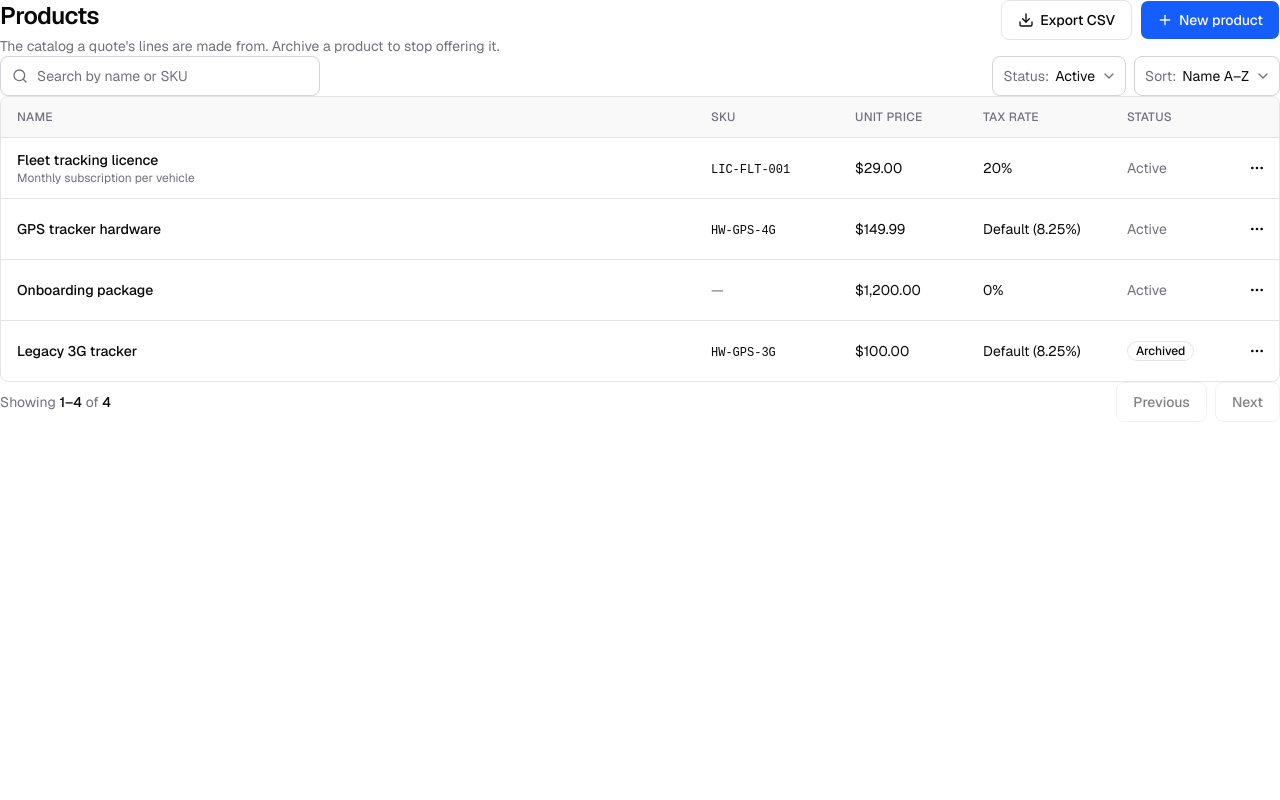
Test case: ProductsPage › adds a product that follows the default tax rate as taxRate null
The width and height of the screenshot is (1280, 800).
Click the button "New product" at point(1210, 20), box [1140,0,1279,40]
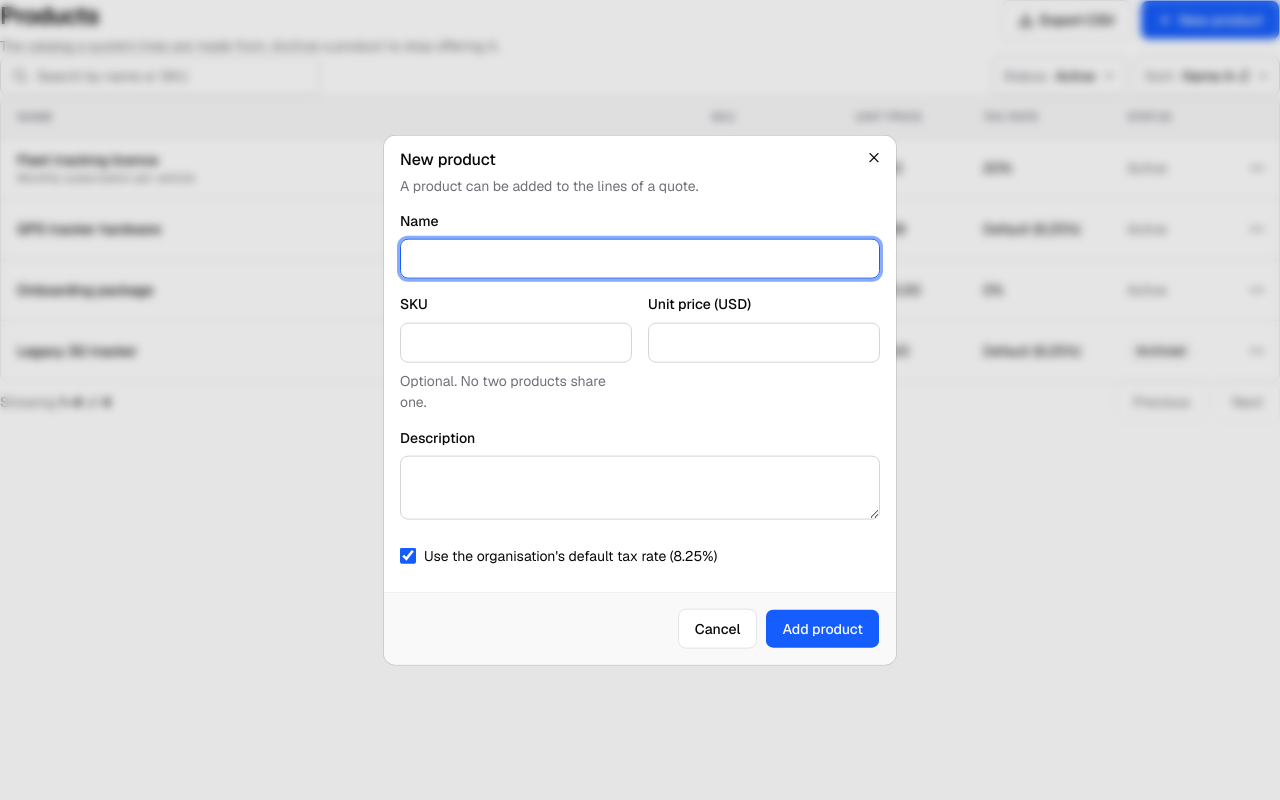
Expected: the checkbox labelled "Use the organisation's default tax rate (8.25%)" is checked, [400,547,416,563]
Type "  GPS tracker hardware " into the field labelled "Name" at point(640, 259), box [400,239,880,279]
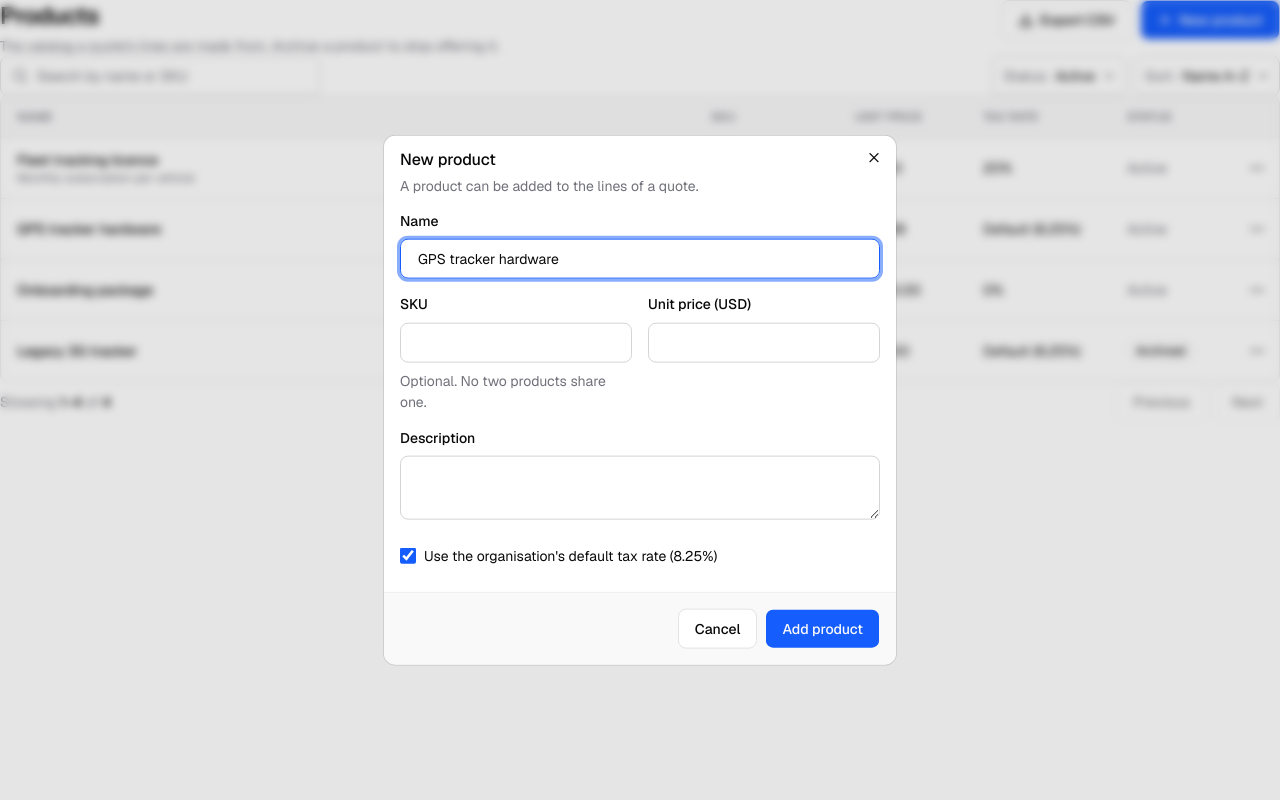
Type "HW-GPS-4G" into the field labelled "SKU" at point(516, 342), box [400,322,632,362]
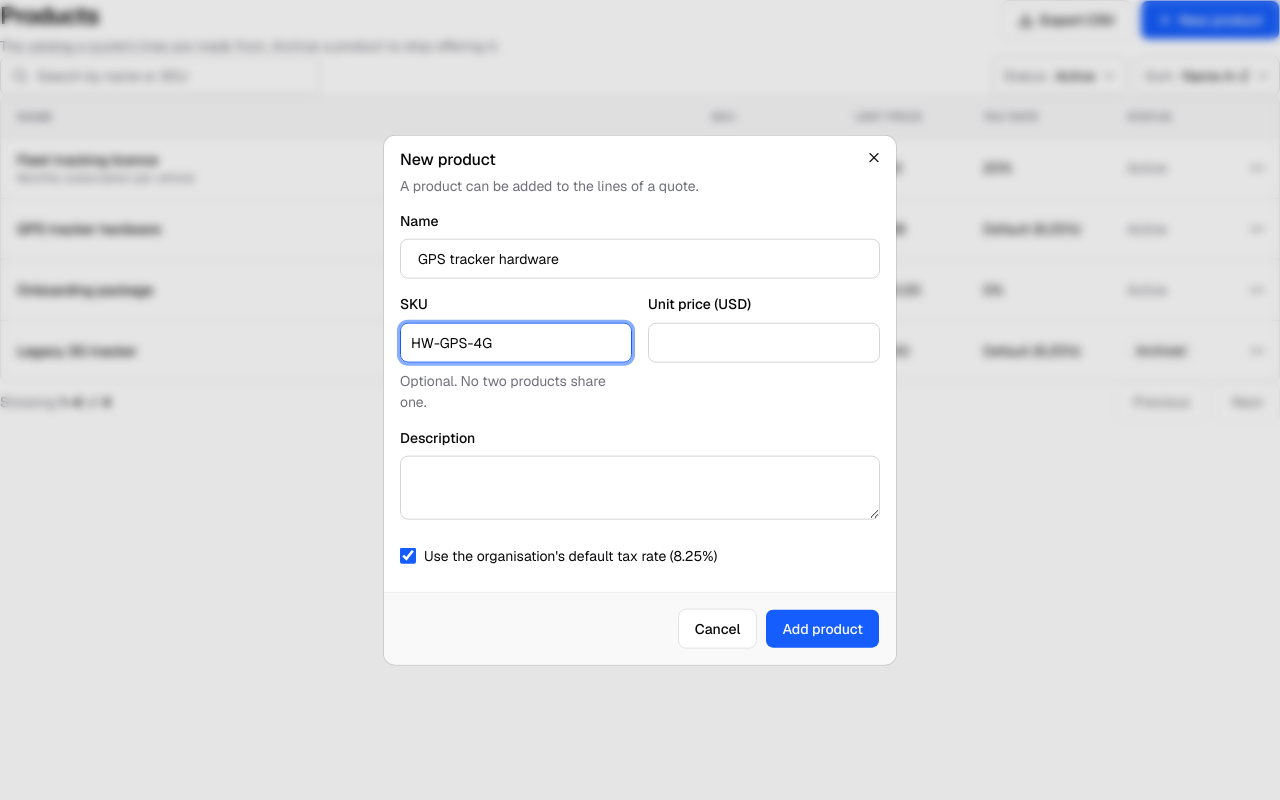
Type "149.99" into the field labelled "Unit price (USD)" at point(764, 342), box [648,322,880,362]
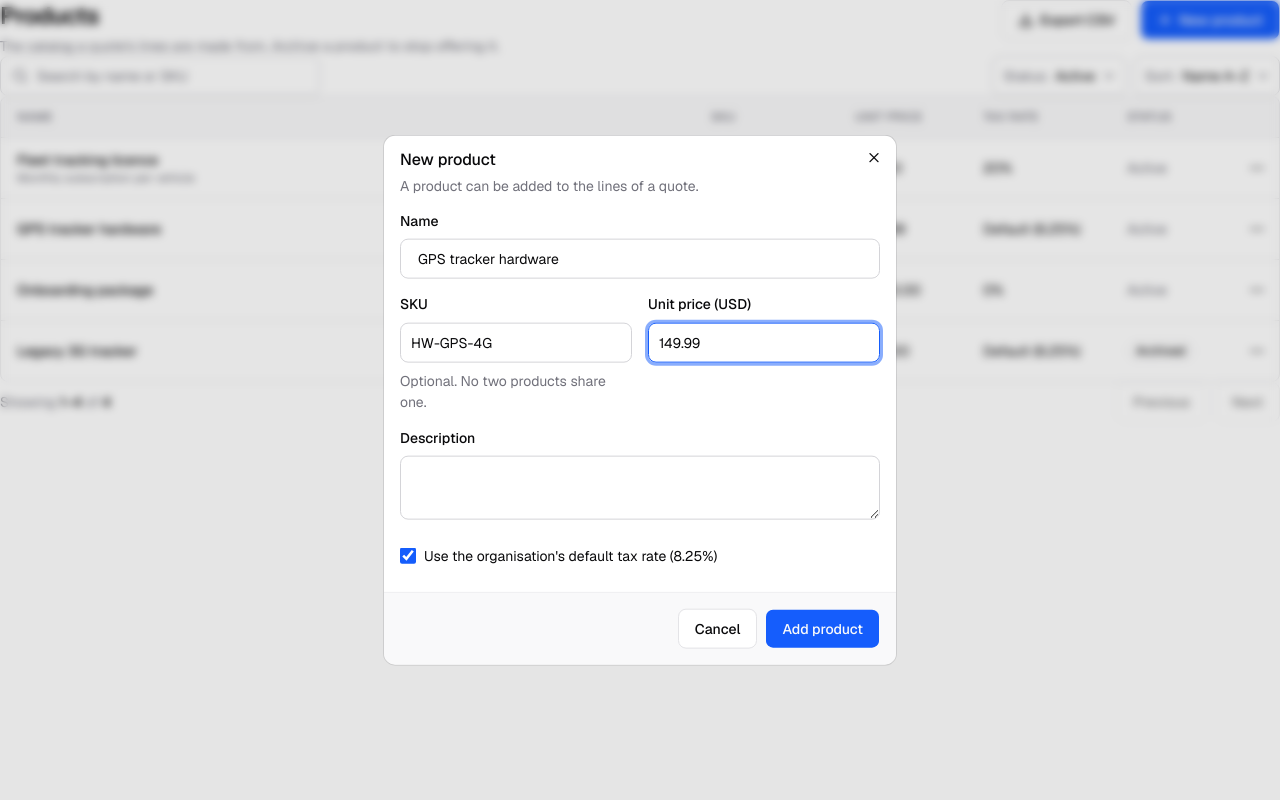
Click the button "Add product" at point(823, 628), box [765,608,880,648]
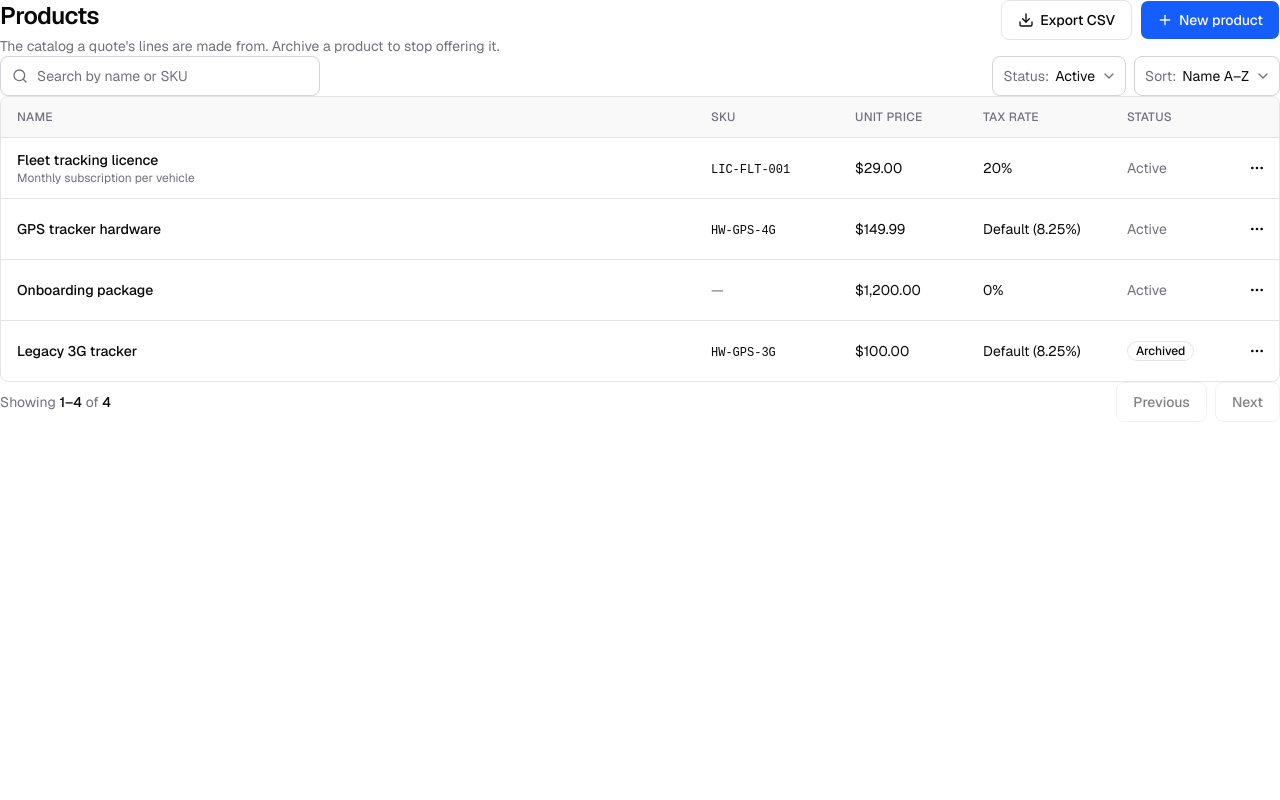
Expected: the dialog is gone
